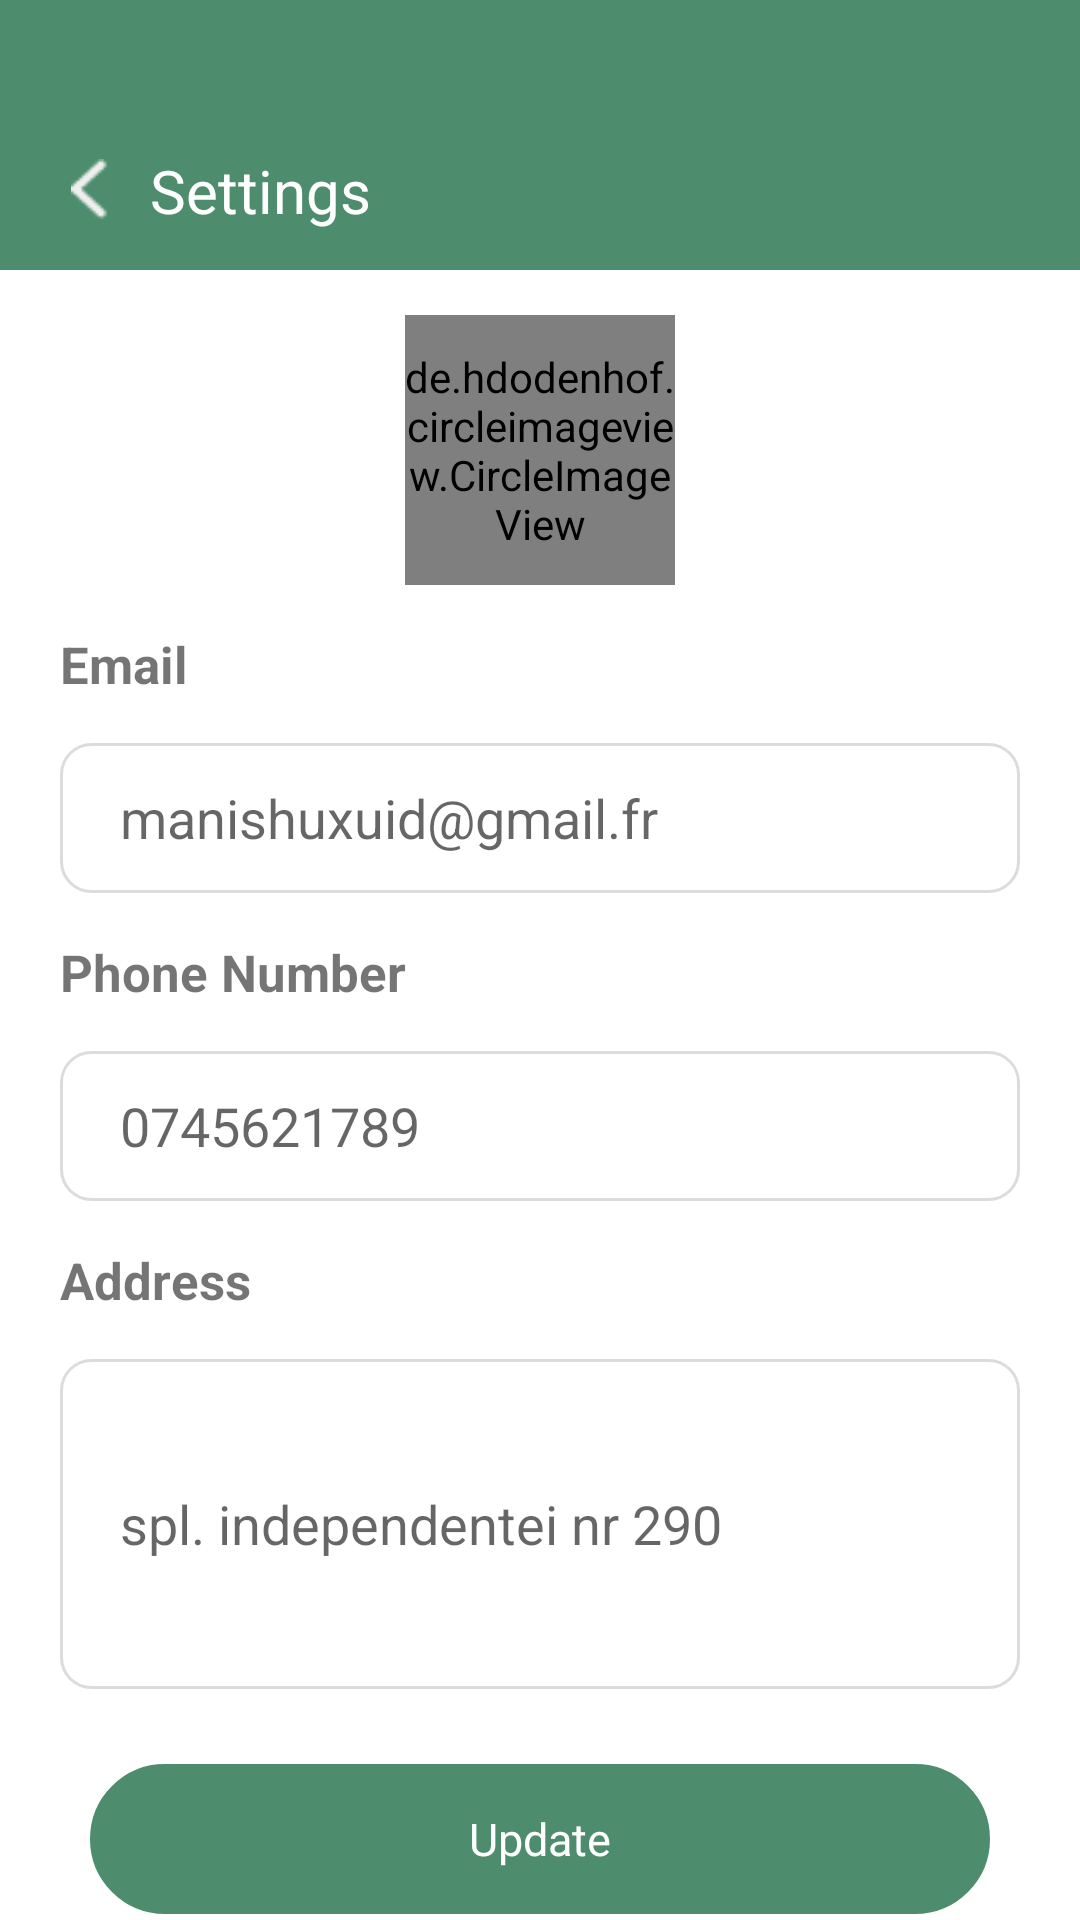

Named icons in this screenshot (1080×1920) and their bounding boxes, rect(x1, y1, x2, y2):
back: rect(71, 159, 107, 219)
